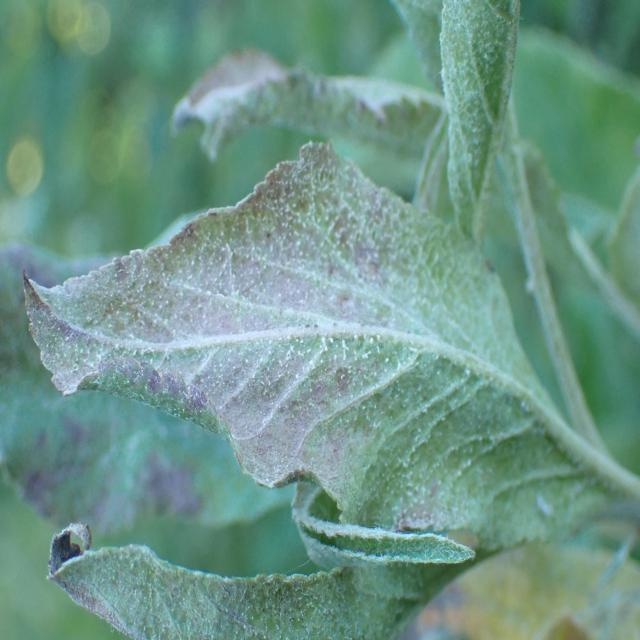Powdery_mildew: (37, 151, 556, 538), (167, 8, 570, 230), (42, 514, 543, 640), (425, 0, 525, 295)
